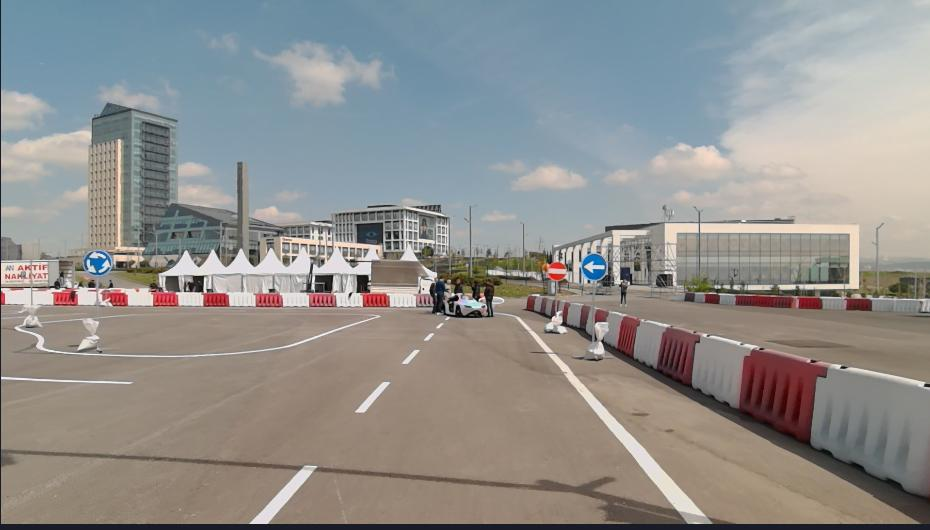nesne: (0, 300, 715, 528), (243, 308, 714, 527), (0, 304, 452, 524), (603, 308, 927, 504), (496, 310, 711, 523), (14, 311, 382, 357), (809, 362, 928, 499), (737, 346, 822, 440), (100, 290, 433, 306), (691, 333, 751, 408), (248, 460, 316, 524), (654, 325, 699, 388), (800, 296, 928, 313), (371, 259, 431, 292), (631, 318, 663, 372), (685, 290, 791, 306), (1, 373, 137, 385), (0, 260, 58, 287), (353, 376, 391, 410), (615, 312, 640, 360), (602, 309, 628, 349), (442, 293, 485, 316), (76, 317, 104, 352), (588, 321, 609, 358), (871, 299, 928, 312), (581, 253, 606, 279), (85, 251, 112, 274), (735, 295, 791, 306), (480, 275, 495, 316), (430, 274, 445, 312), (545, 309, 566, 331), (22, 306, 44, 327), (126, 292, 153, 308), (566, 302, 582, 328), (202, 292, 229, 307), (152, 291, 177, 307), (546, 261, 567, 280), (361, 293, 389, 307), (308, 293, 335, 307), (334, 293, 362, 306), (24, 255, 30, 315), (467, 277, 482, 301), (590, 279, 596, 338), (255, 294, 282, 307), (282, 294, 309, 307), (847, 297, 874, 310), (402, 345, 420, 364), (577, 303, 588, 334), (52, 292, 78, 305), (229, 294, 255, 307), (178, 293, 203, 306), (103, 292, 127, 305), (389, 294, 415, 305), (33, 291, 52, 306), (821, 297, 846, 308), (77, 291, 95, 305), (443, 275, 452, 303), (619, 277, 628, 305), (6, 291, 25, 304), (801, 296, 820, 309), (791, 282, 800, 307), (414, 292, 432, 304), (552, 279, 558, 314), (96, 274, 100, 322), (542, 298, 552, 315), (450, 275, 461, 290), (538, 296, 547, 313), (525, 295, 535, 310), (562, 301, 568, 326), (706, 293, 721, 303), (718, 294, 736, 302), (597, 308, 608, 321), (533, 295, 541, 311), (59, 268, 65, 285), (105, 276, 115, 286), (694, 293, 705, 302), (76, 276, 84, 286), (685, 291, 693, 301), (53, 277, 60, 288), (101, 299, 112, 306), (557, 300, 564, 310), (88, 278, 94, 288), (0, 291, 4, 304)
